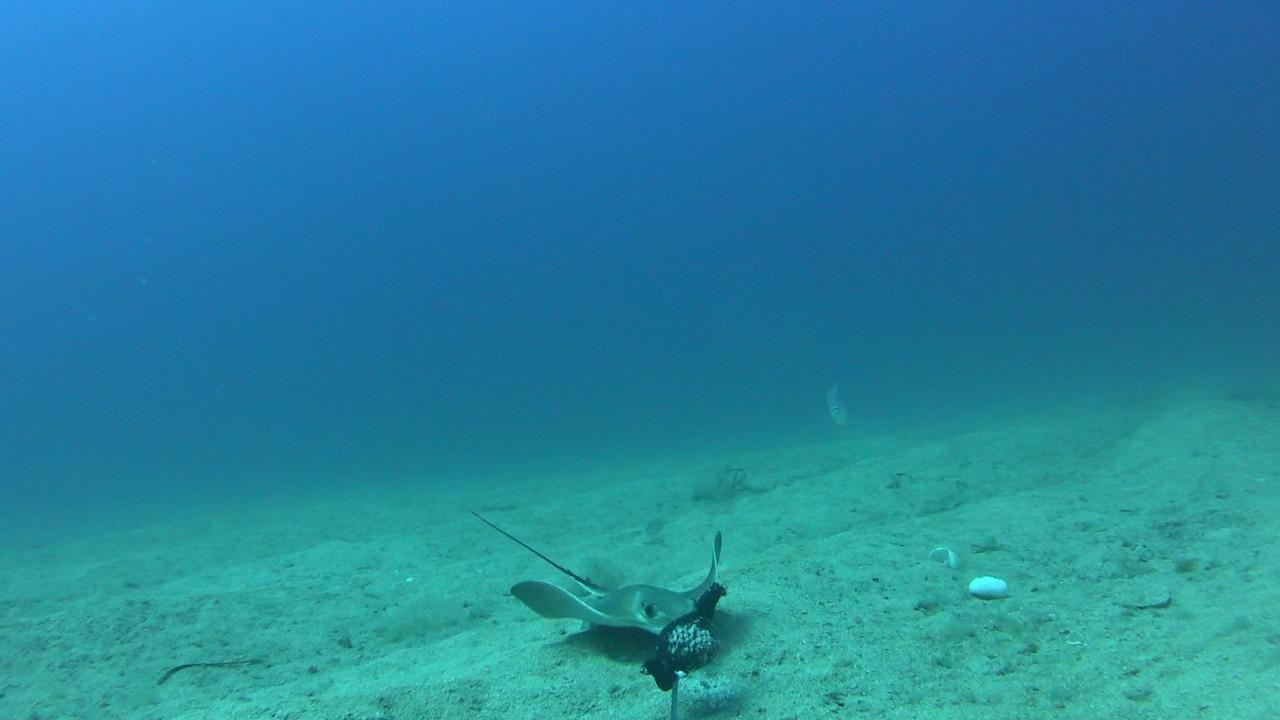myliobatis: (454, 487, 769, 634)
